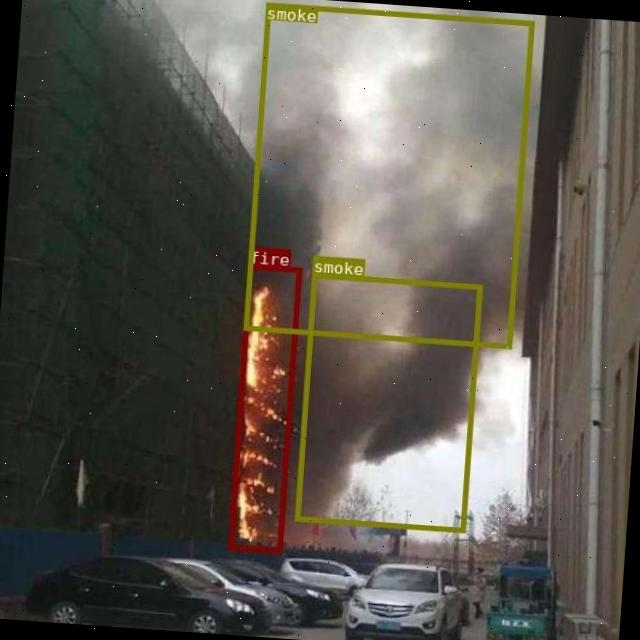fire: (227, 263, 300, 553)
smoke: (242, 1, 532, 348), (294, 273, 481, 532)
